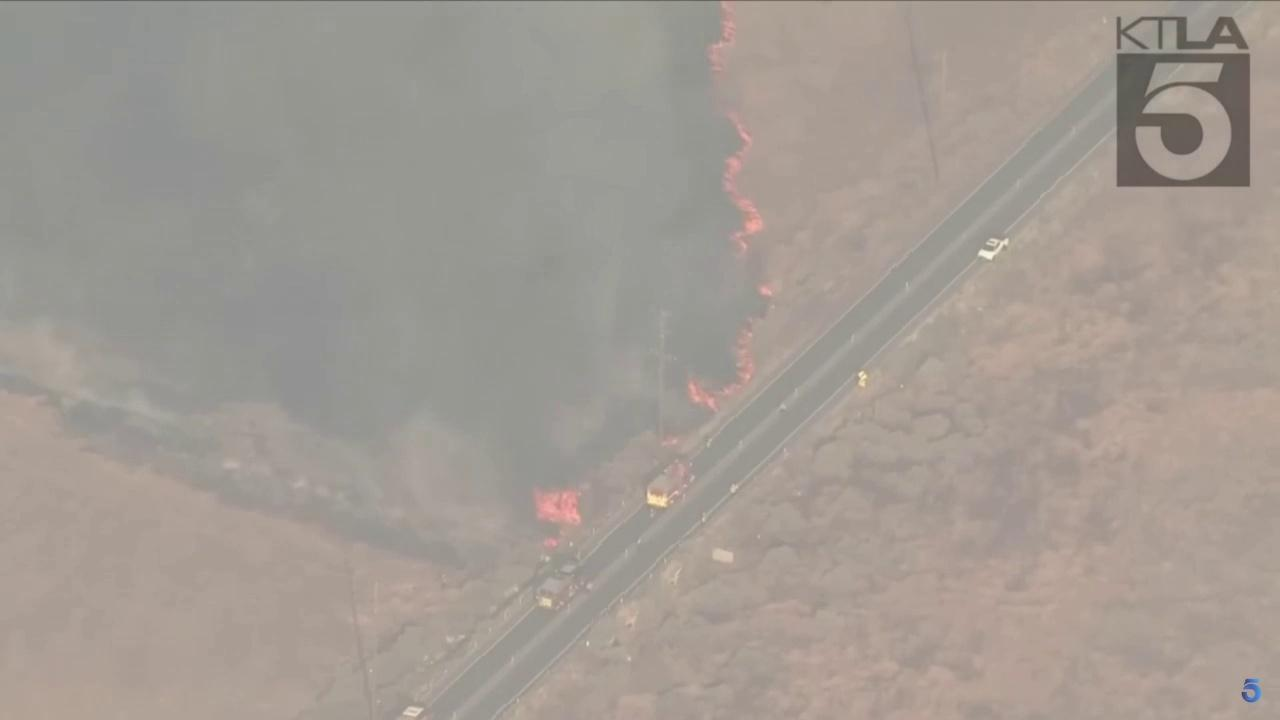fire: (685, 327, 764, 415), (720, 111, 766, 257), (706, 0, 738, 81), (530, 486, 582, 527), (757, 282, 774, 298), (541, 537, 559, 550), (659, 437, 678, 448)
smoke: (0, 0, 727, 560)
